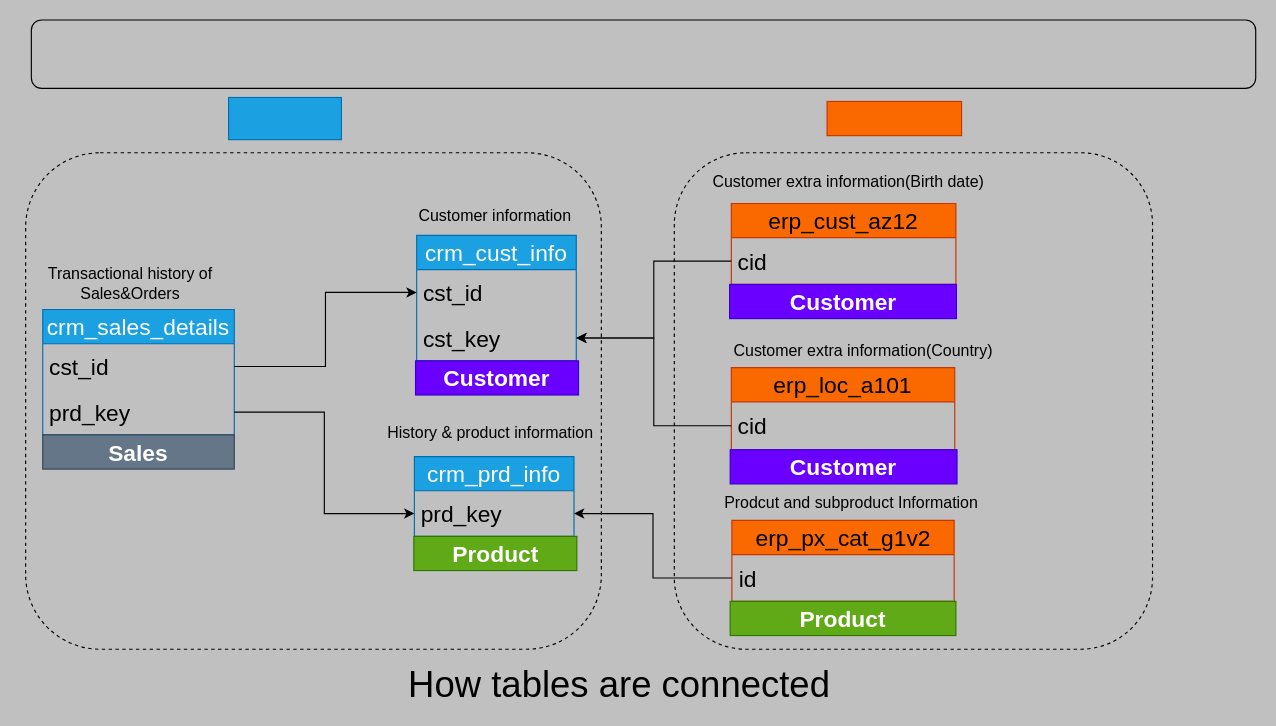
This 1276x726 diagram has some shape labels left out. The shapes that lost their labels are listed below. From the top down, each one's centre as x and y in pixels, then its label:
(643,53): DATA INTEGRATION MODEL
(284,118): CRM
(894,118): ERP
